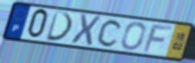0: (26, 8, 50, 42)
C: (96, 18, 124, 48)
D: (44, 10, 75, 43)
F: (141, 23, 174, 53)
O: (119, 21, 148, 52)
X: (69, 13, 102, 47)
